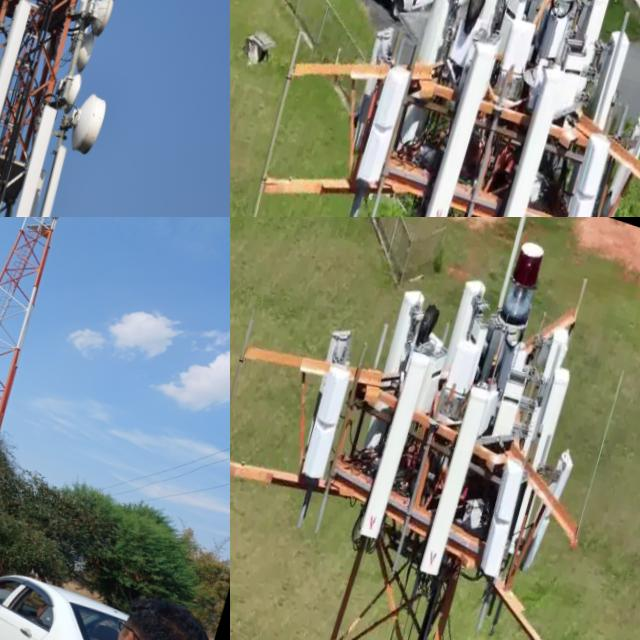GSM Antenna: (348, 337, 435, 556), (411, 366, 497, 585), (416, 25, 502, 217), (489, 52, 575, 217), (515, 430, 582, 577), (467, 445, 535, 589), (350, 55, 419, 193), (290, 351, 358, 490), (336, 5, 403, 145), (0, 93, 66, 217), (435, 266, 497, 375), (551, 118, 619, 217), (0, 0, 40, 164), (519, 357, 576, 470), (584, 18, 640, 131), (592, 87, 640, 217), (384, 275, 432, 369), (413, 0, 469, 72), (495, 7, 546, 82), (533, 315, 575, 390), (36, 138, 73, 217), (573, 0, 615, 47), (472, 0, 520, 24)
Microwave Antenna: (64, 83, 113, 161), (51, 54, 92, 111), (78, 0, 122, 36), (71, 30, 102, 73)
